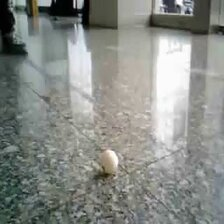w: (100, 149, 118, 172)
